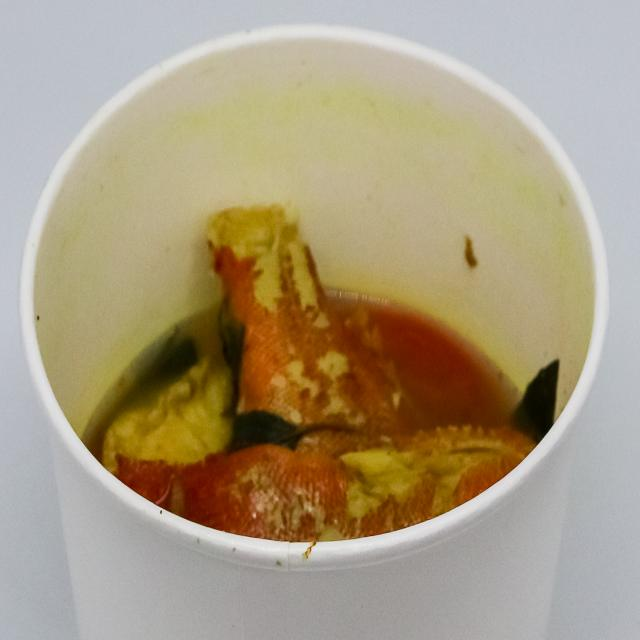Gulai-Ikan-Mas: (80, 173, 580, 582)
